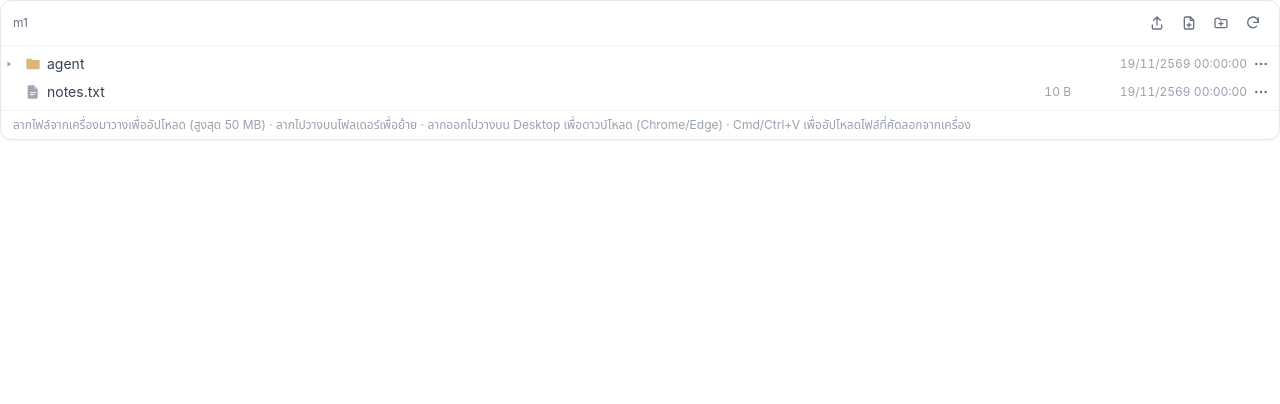
Scenario: FilesTab create and upload › upload inside a level-1 folder › Upload is enabled, New File and New Folder are not
This screenshot has width=1280, height=404.
Expected: the button "notes.txt" is shown, [7,78,991,106]
Click the button "▸ agent": (66, 64) [7,50,1071,78]
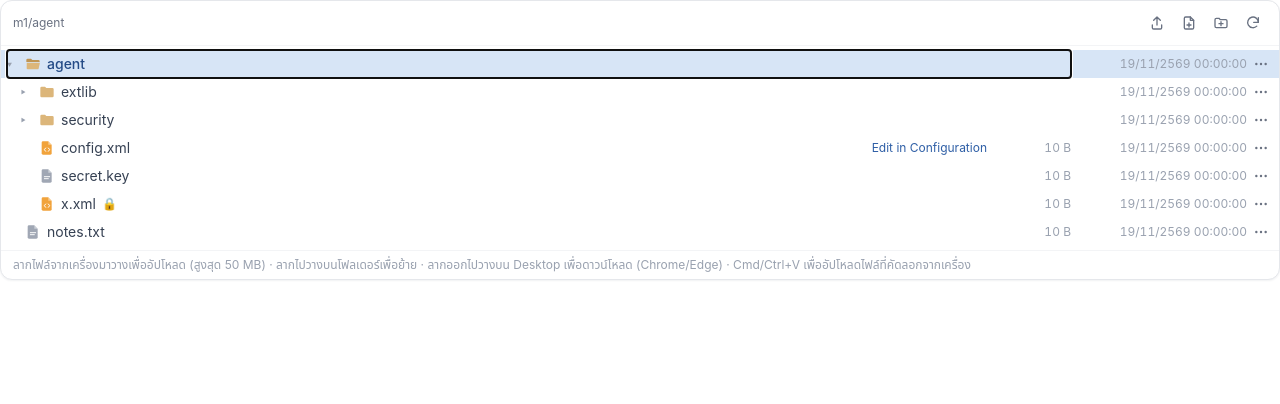
Expected: the button "x.xml 🔒" is shown, [21,190,991,218]
Click the button "▸ security": (88, 120) [21,106,1071,134]
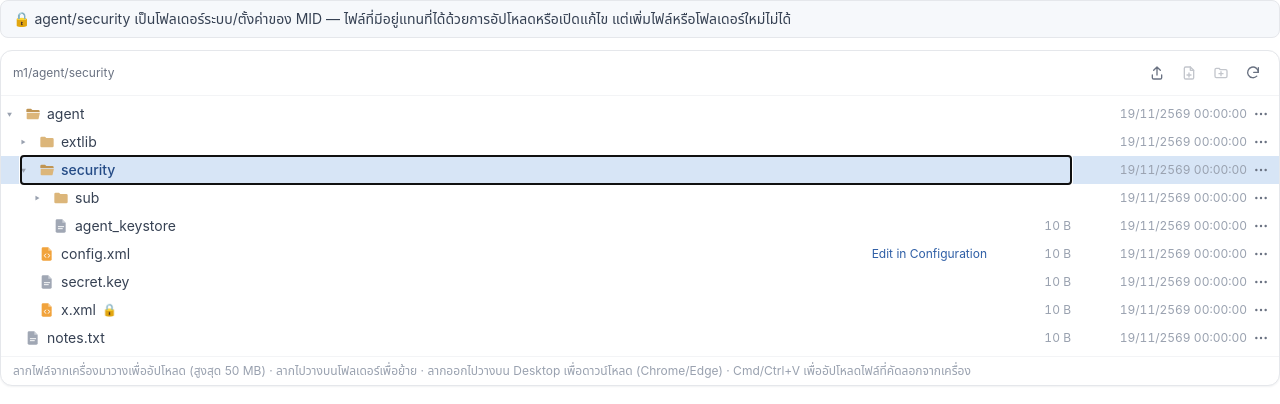
Expected: the button "agent_keystore" is shown, [35,212,991,240]
Expected: the button named "New File" is disabled, [1175,59,1203,87]
Expected: the button named "New Folder" is disabled, [1207,59,1235,87]
